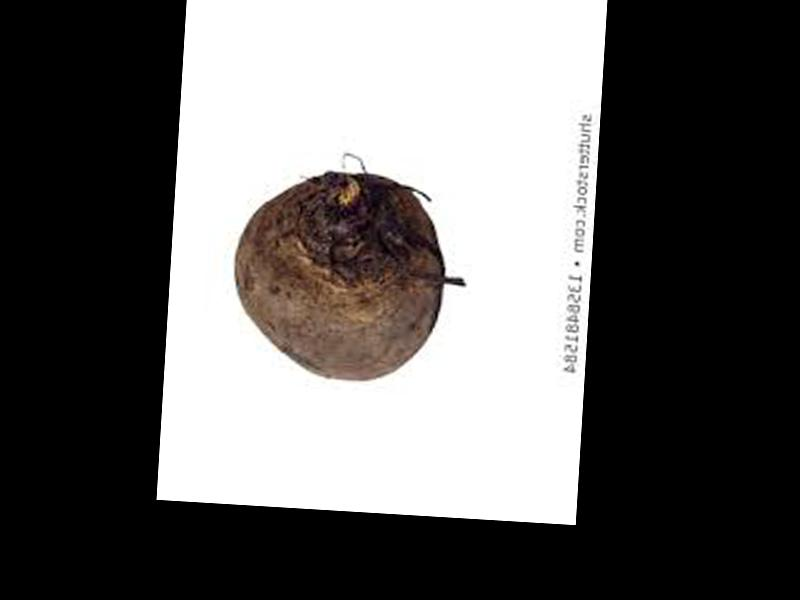Beet: (228, 168, 448, 387)
